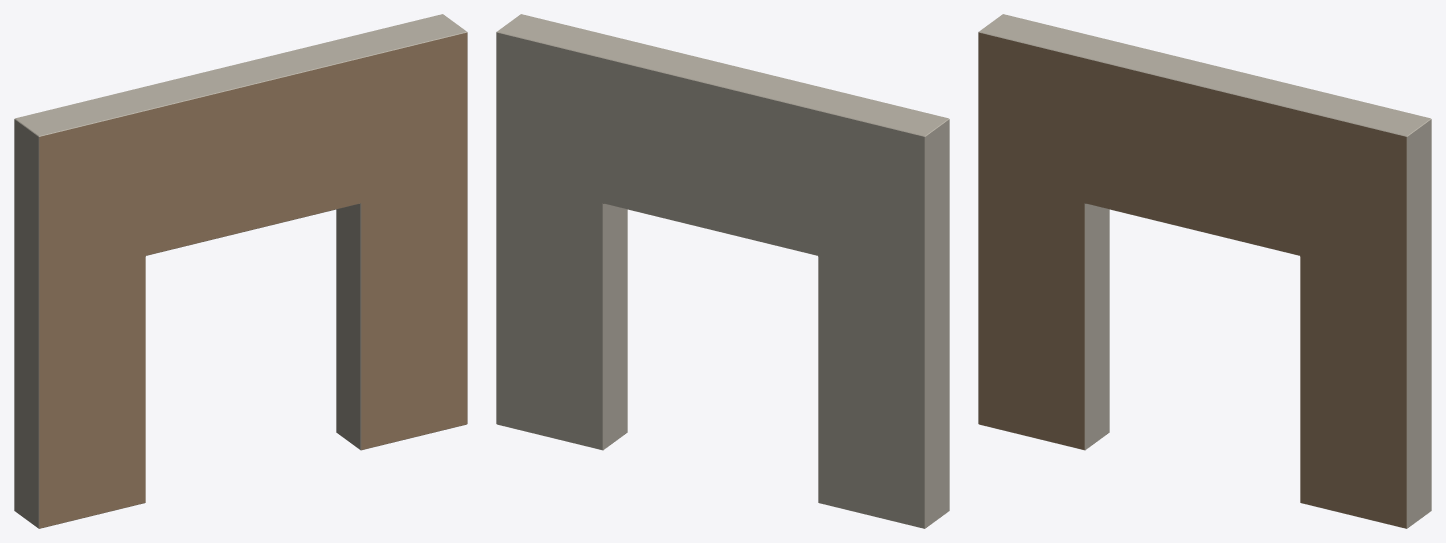
Rendered from arch_wall_ext_door_double_w400_h350.glb.
3 renders of one model, left to right at view 1: azimuth 30°, elevation 25°; view 2: azimuth 150°, elevation 25°; view 3: azimuth 330°, elevation 25°, orthographic.
Parts seen in each view (by area): view 1: Wall; view 2: Wall; view 3: Wall.
Part boxes in pixels (x1,y1,x2,y2): Wall: (14, 14, 467, 528); Wall: (496, 14, 949, 528); Wall: (978, 14, 1431, 528).
Size of what is drawn, in the model's own units: 4 by 3.5 by 0.4.
